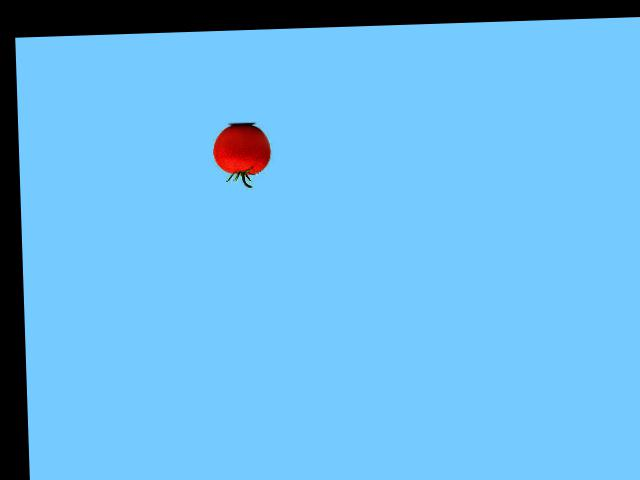tomato: (211, 123, 270, 175)
